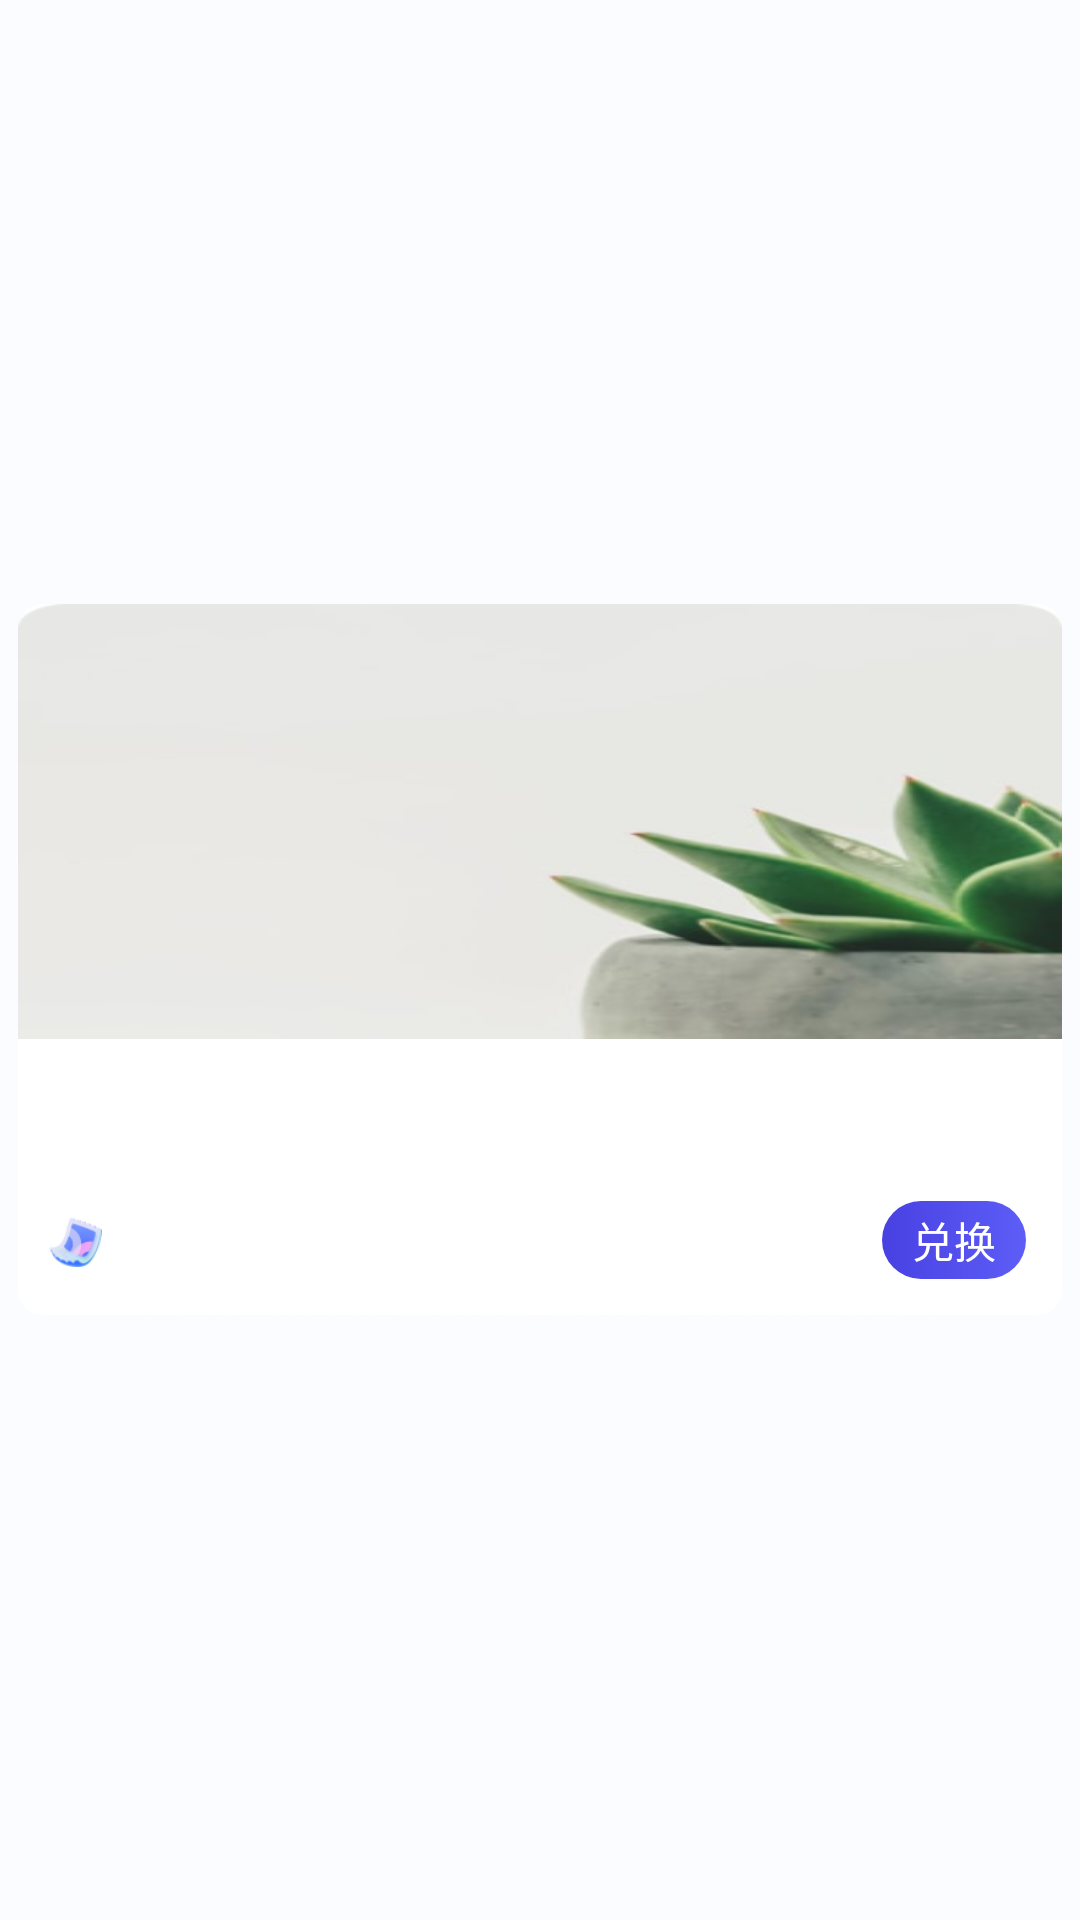

Named icons in this screenshot (1080px×1920px) and their bounding boxes, (x1, y1, x2, y2):
shop my stamp: (50, 1219, 102, 1267)
